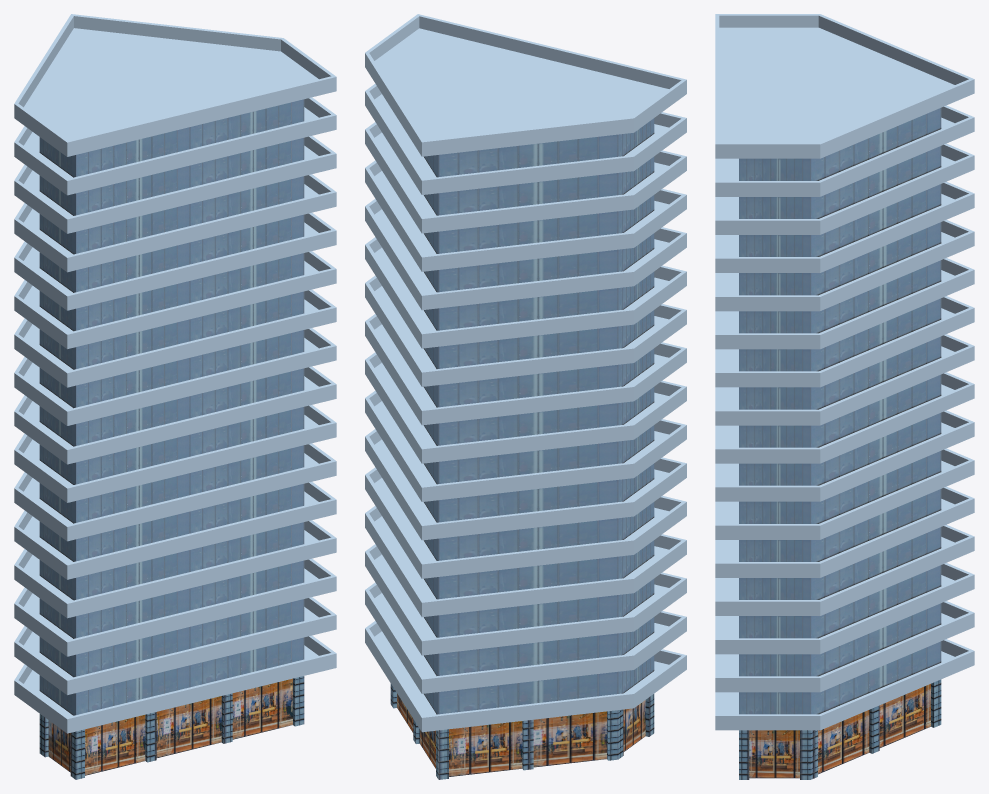
File: Medium_Building_10.fbx
3 renders of one model, left to right at view 1: azimuth 30°, elevation 25°; view 2: azimuth 150°, elevation 25°; view 3: azimuth 270°, elevation 25°, orthographic.
Visible parts, largest first — view 1: Medium_Building_10; view 2: Medium_Building_10; view 3: Medium_Building_10.
Boxes of the visible parts, x1,y1,x2,y2 form: Medium_Building_10: (14,14,336,779); Medium_Building_10: (365,14,686,779); Medium_Building_10: (715,14,974,779).
Bounding box in the file's own units: 2348 × 5420 × 1974.
